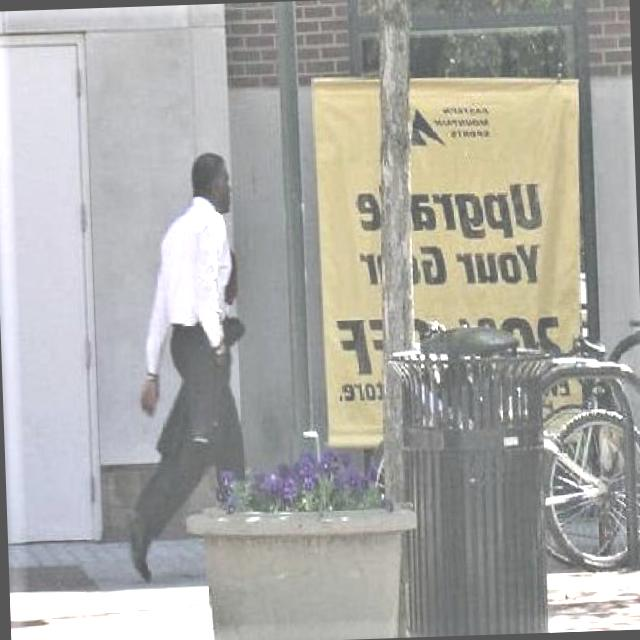Person: (104, 148, 250, 584)
